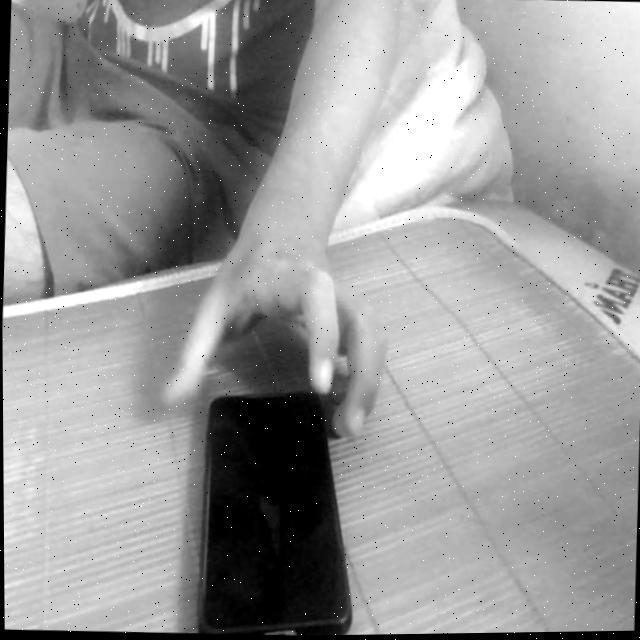phone: (170, 352, 372, 638)
